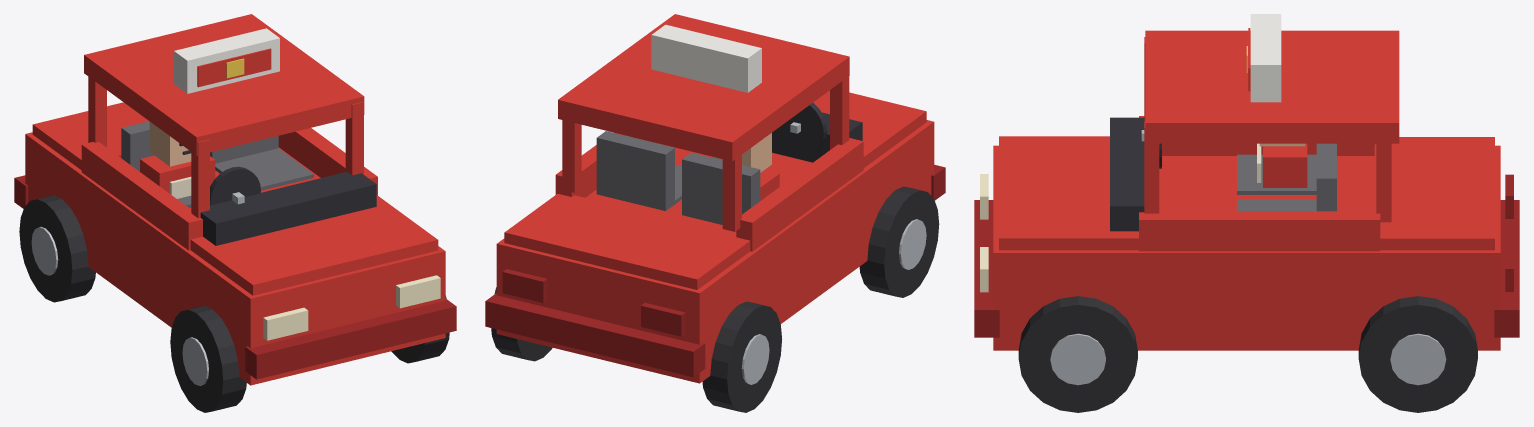
The model's file is character3.glb.
The picture shows the model from 3 angles, left to right: view 1: azimuth 30°, elevation 25°; view 2: azimuth 150°, elevation 25°; view 3: azimuth 270°, elevation 25°; orthographic projection. The views are drawn at different scales.
Parts seen in each view (by area): view 1: Main Car Body, Car Roof, Front Hood, Dashboard, Front Bumper, Wheel.001, Wheel, Car Door Side, Pizza Roof Sign, Rear Trunk, Car Door Side.001, Seat Cushion.001 (+16 smaller); view 2: Main Car Body, Car Roof, Rear Trunk, Rear Bumper, Wheel.001, Wheel, Car Door Side, Pizza Roof Sign, Seat Back.001, Seat Back, Front Hood, Steering Wheel (+13 smaller); view 3: Main Car Body, Car Roof, Front Hood, Rear Trunk, Car Door Side.001, Wheel.002, Wheel.003, Dashboard, Pizza Roof Sign, Rear Bumper, Front Bumper, Wheel Hub.002 (+8 smaller).
Boxes of the visible parts, bbox=[...] form: Main Car Body: bbox=[25, 132, 445, 385]; Car Roof: bbox=[84, 14, 364, 155]; Front Hood: bbox=[190, 195, 438, 295]; Dashboard: bbox=[200, 172, 376, 245]; Front Bumper: bbox=[245, 299, 456, 379]; Wheel.001: bbox=[19, 195, 95, 302]; Wheel: bbox=[170, 306, 246, 412]; Car Door Side: bbox=[81, 141, 202, 250]; Pizza Roof Sign: bbox=[174, 28, 279, 93]; Rear Trunk: bbox=[32, 102, 148, 169]; Car Door Side.001: bbox=[278, 128, 377, 195]; Seat Cushion.001: bbox=[215, 148, 313, 190]; Main Car Body: bbox=[496, 120, 934, 383]; Car Roof: bbox=[558, 14, 849, 161]; Rear Trunk: bbox=[504, 193, 750, 289]; Rear Bumper: bbox=[485, 293, 705, 377]; Wheel.001: bbox=[702, 301, 781, 412]; Wheel: bbox=[859, 186, 939, 297]; Car Door Side: bbox=[736, 138, 863, 251]; Pizza Roof Sign: bbox=[651, 24, 761, 92]; Seat Back.001: bbox=[596, 131, 674, 210]; Seat Back: bbox=[682, 152, 760, 224]; Front Hood: bbox=[813, 90, 926, 167]; Steering Wheel: bbox=[773, 103, 827, 154]; Main Car Body: bbox=[993, 145, 1500, 350]; Car Roof: bbox=[1145, 30, 1399, 143]; Front Hood: bbox=[999, 136, 1138, 250]; Rear Trunk: bbox=[1374, 137, 1494, 250]; Car Door Side.001: bbox=[1139, 211, 1380, 251]; Wheel.002: bbox=[1018, 296, 1137, 412]; Wheel.003: bbox=[1358, 296, 1477, 412]; Dashboard: bbox=[1110, 117, 1144, 231]; Pizza Roof Sign: bbox=[1250, 14, 1281, 102]; Rear Bumper: bbox=[1494, 200, 1519, 337]; Front Bumper: bbox=[974, 200, 999, 337]; Wheel Hub.002: bbox=[1050, 333, 1105, 385].
Bounding box in the file's own units: 2.37 × 2.7 × 4.3.
